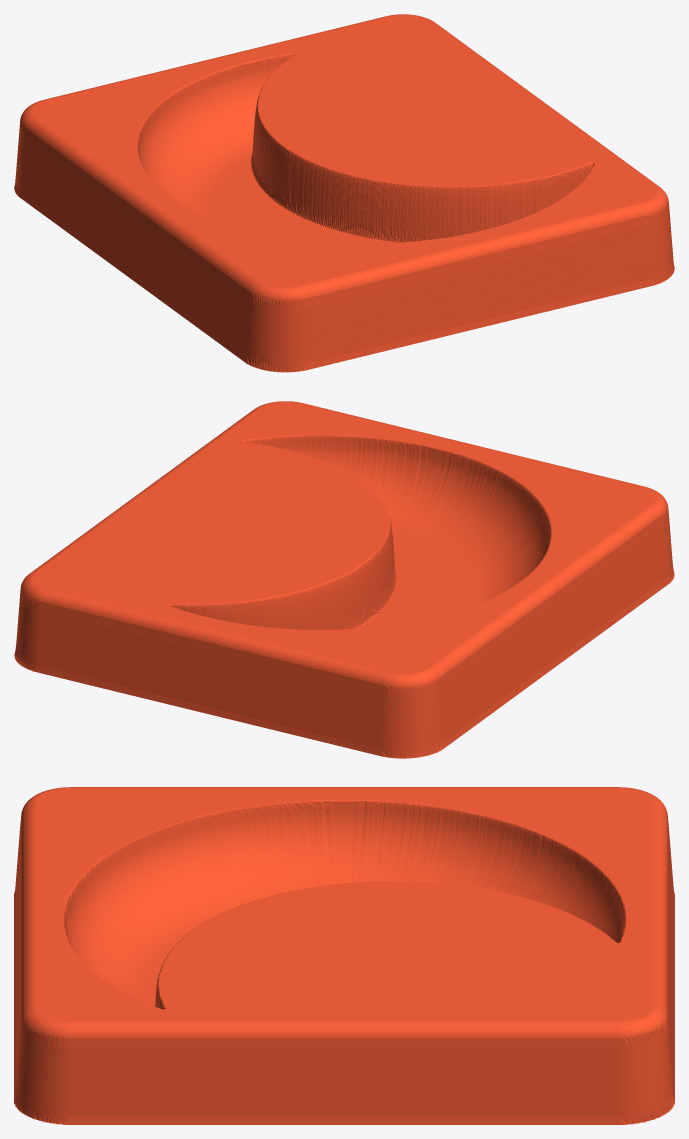
Rendered from mold.glb.
The picture shows the model from 3 angles, top to bottom: view 1: azimuth 30°, elevation 25°; view 2: azimuth 150°, elevation 25°; view 3: azimuth 270°, elevation 25°; orthographic projection. The views are drawn at different scales.
Visible parts, largest first — view 1: geometry_0; view 2: geometry_0; view 3: geometry_0.
Boxes of the visible parts, bbox=[...] form: geometry_0: bbox=[14, 14, 674, 372]; geometry_0: bbox=[14, 401, 674, 758]; geometry_0: bbox=[14, 787, 674, 1124].
Bounding box in the file's own units: 0.0946 × 0.0165 × 0.105.
